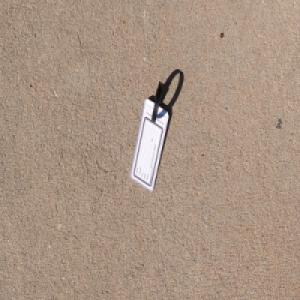LuggageTag: (130, 81, 170, 195)
